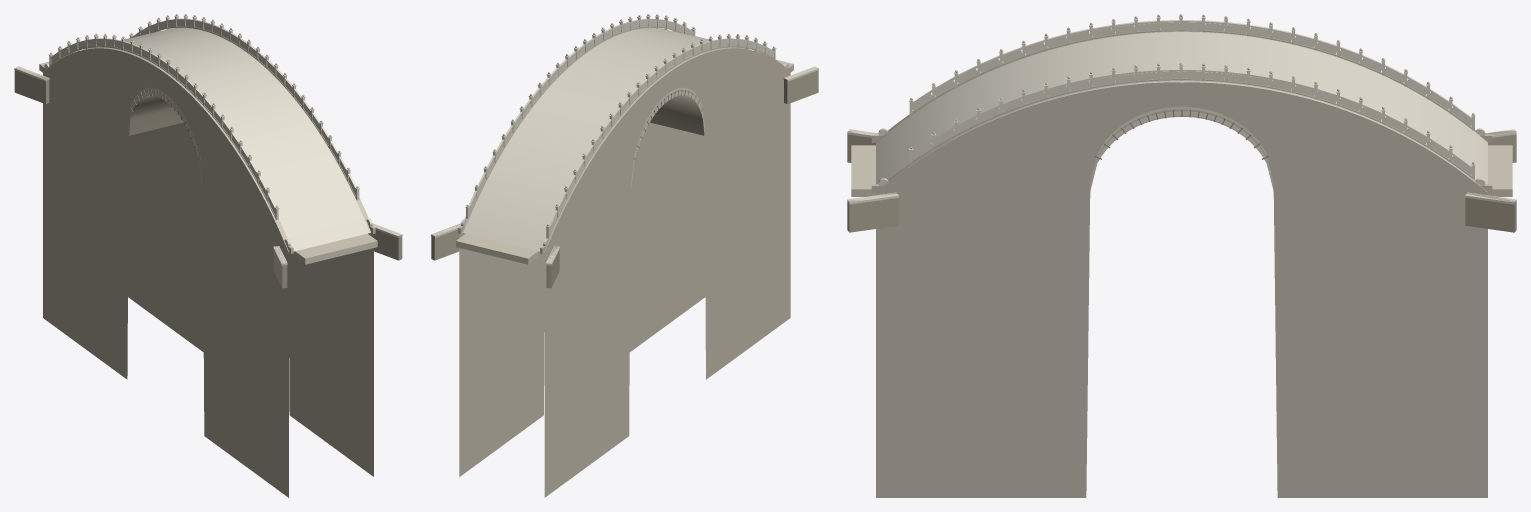
3 views of the same model, side by side, from view 1: azimuth 30°, elevation 25°; view 2: azimuth 150°, elevation 25°; view 3: azimuth 270°, elevation 25° (orthographic). The views are drawn at different scales.
Size of the model in its own units: 0.108 by 0.2978 by 0.417.
